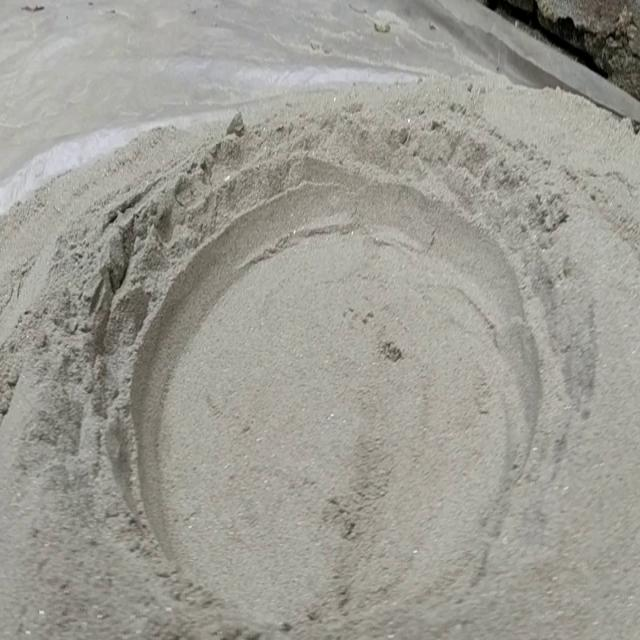C40: (131, 162, 540, 633)
